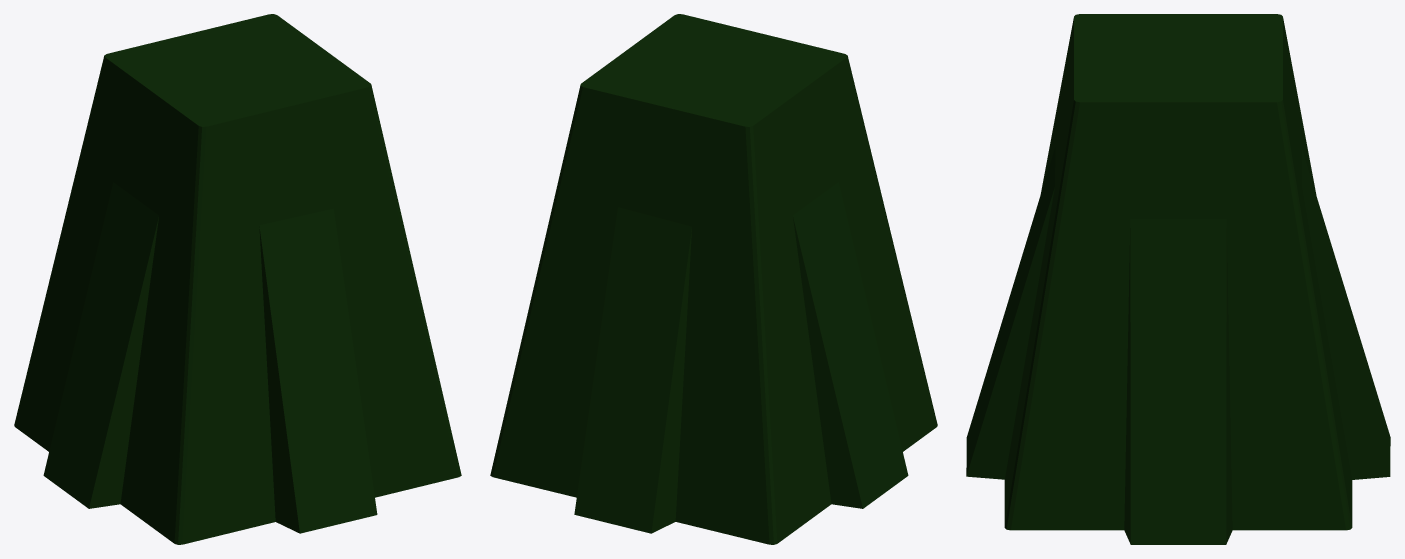
File: square-base-3.fbx
3 views of the same model, side by side, from view 1: azimuth 30°, elevation 25°; view 2: azimuth 150°, elevation 25°; view 3: azimuth 270°, elevation 25° (orthographic). The views are drawn at different scales.
Parts seen in each view (by area): view 1: square-base-3; view 2: square-base-3; view 3: square-base-3.
Boxes of the visible parts, bbox=[...] form: square-base-3: bbox=[14, 14, 461, 544]; square-base-3: bbox=[490, 14, 937, 544]; square-base-3: bbox=[966, 14, 1390, 544].
Size of the model in its own units: 3.17 by 3.35 by 3.23.
